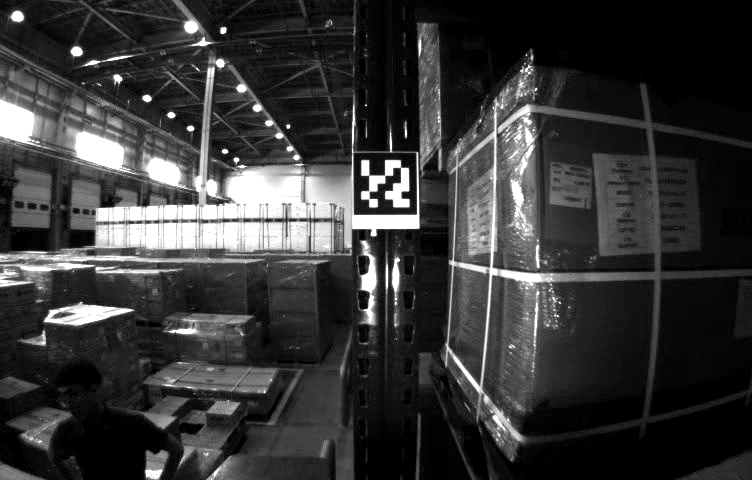True Barcode: (549, 161, 595, 210)
